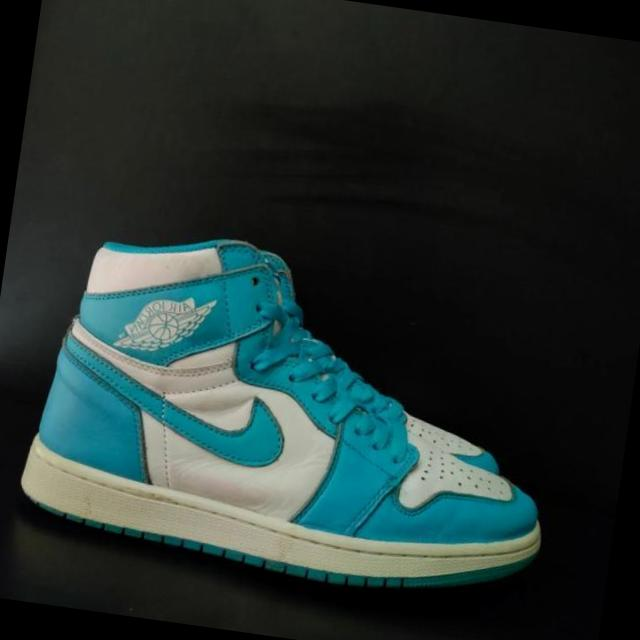nike_original_jordan: (8, 214, 582, 612)
